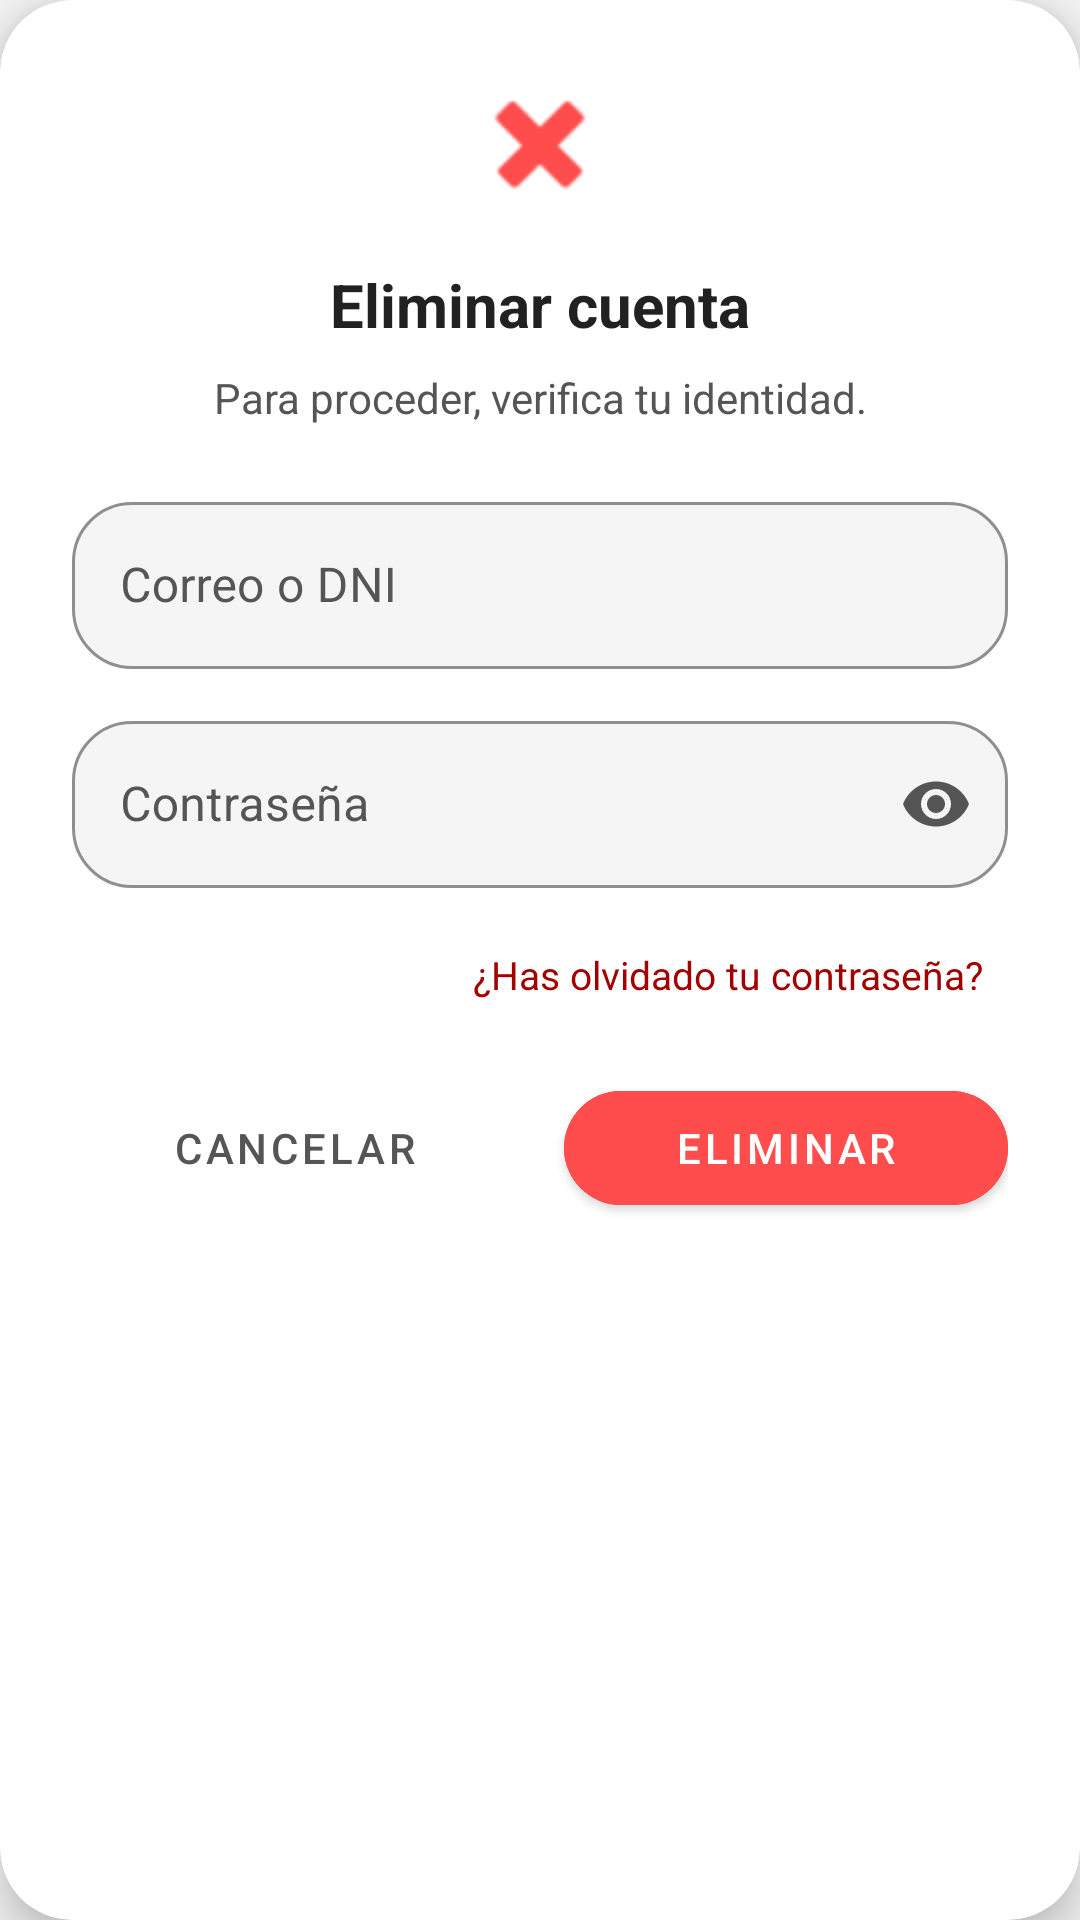

Where to tap for icons on this 1080*1920 app screen, as (x=x, y=y):
delete: (x=540, y=144)
